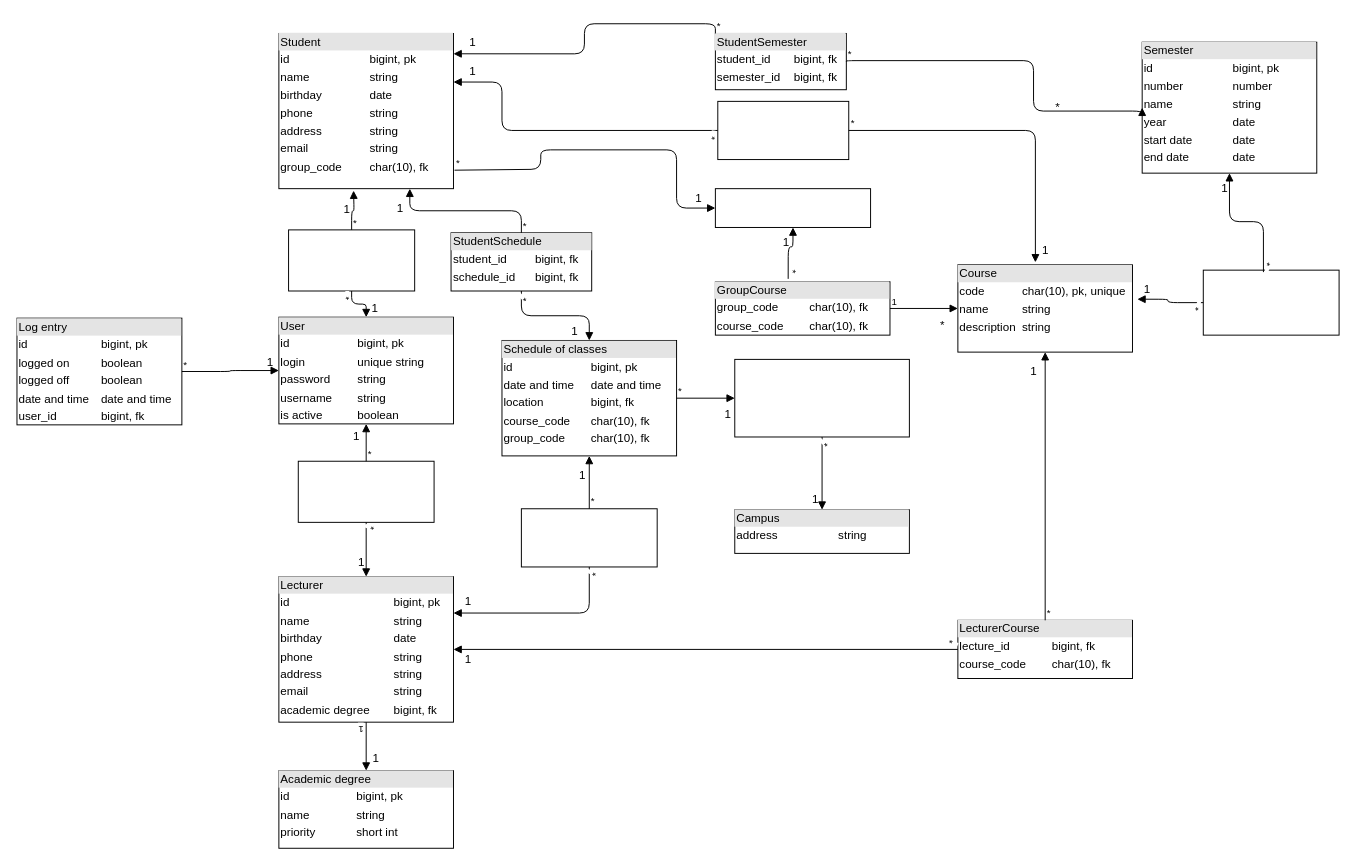
Image size: 1356x865. Some labels were removed from this diagram. Here are the shapes that lost their labels. From the top down, the centre of each, then its label:
point (783, 130): StudentCourse student_id bigint, fk course_code bigint, fk
point (792, 207): Group code char(10), unique, pk
point (351, 260): StudentUser student_id bigint, fk user_id bigint, fk
point (1270, 302): CourseSemester course_code char(10), fk semester_id bigint, fk
point (821, 397): Classes location id bigint, pk audience string campus bigint, fk
point (365, 491): LecturerUser lecture_id bigint, fk user_id bigint, fk
point (588, 537): LecturerSchedule lecture_id bigint, fk schedule_id bigint, fk
